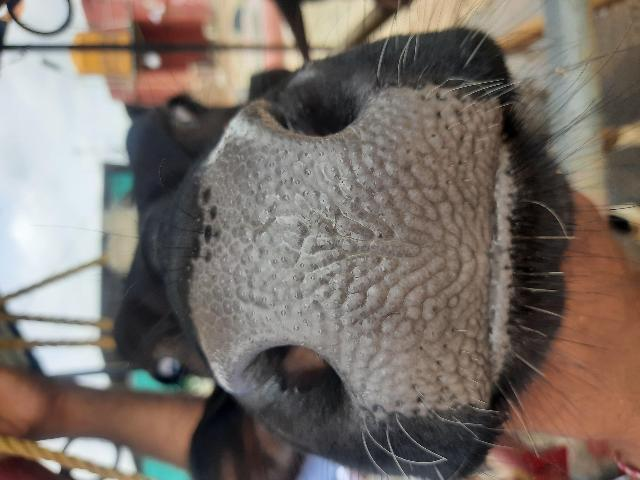Muzzle: (207, 143, 486, 345)
